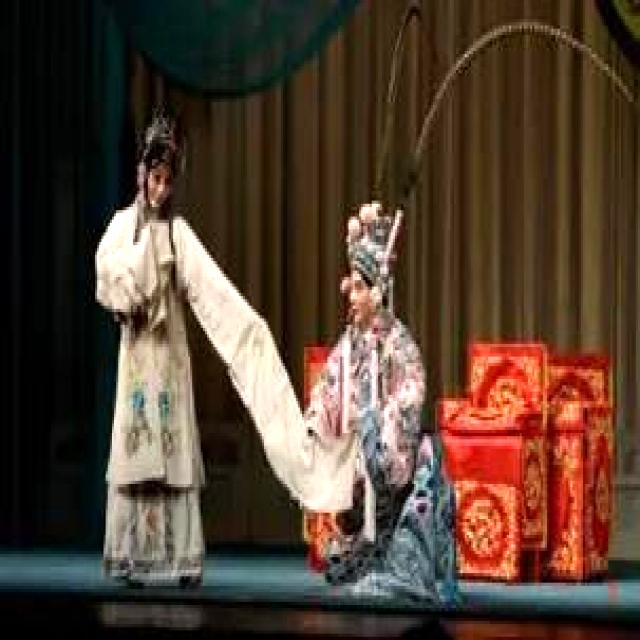Reeves-s Pheasant: (406, 19, 634, 191), (376, 0, 418, 188)
